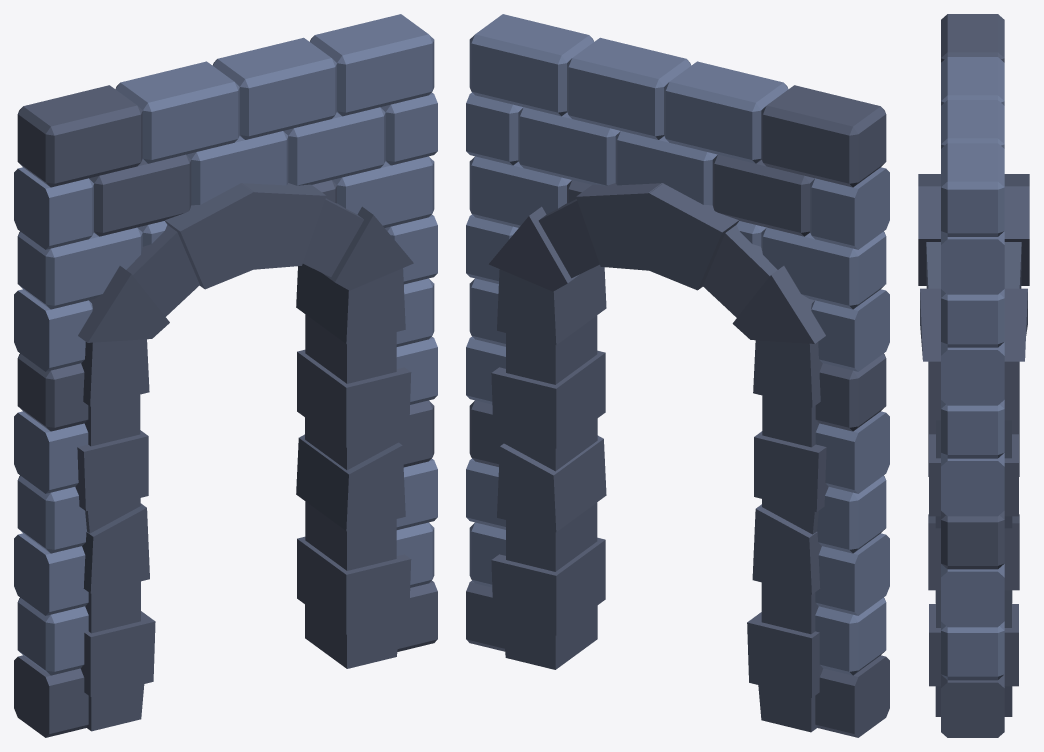
File: door_wall_1.glb
The picture shows the model from 3 angles, left to right: view 1: azimuth 30°, elevation 25°; view 2: azimuth 150°, elevation 25°; view 3: azimuth 270°, elevation 25°; orthographic projection. The views are drawn at different scales.
Visible parts, largest first — view 1: small door; view 2: small door; view 3: small door.
Boxes of the visible parts, left/top/right/bottom form: small door: left=14, top=14, right=437, bottom=737; small door: left=466, top=14, right=889, bottom=737; small door: left=918, top=14, right=1029, bottom=737.
Size of the model in its own units: 2 by 3 by 0.5465.
